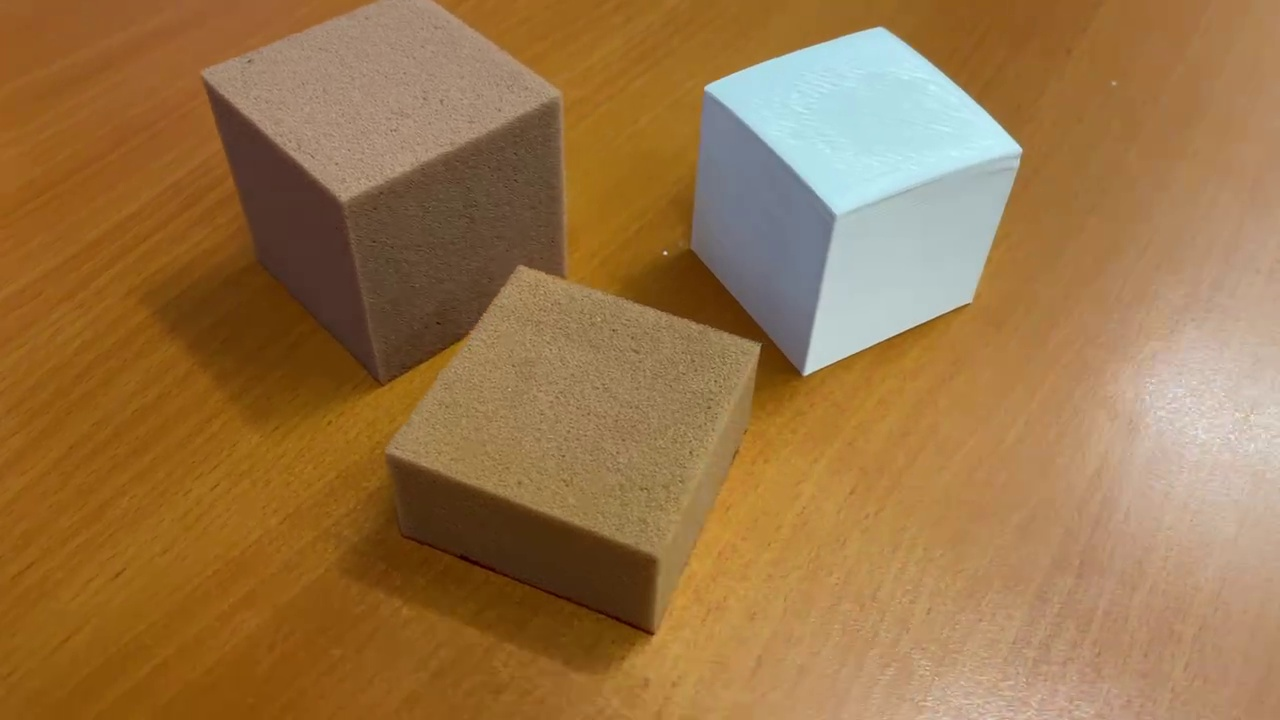Cube: (195, 1, 581, 392), (675, 21, 1026, 383)
Cube_short: (384, 261, 763, 641)
